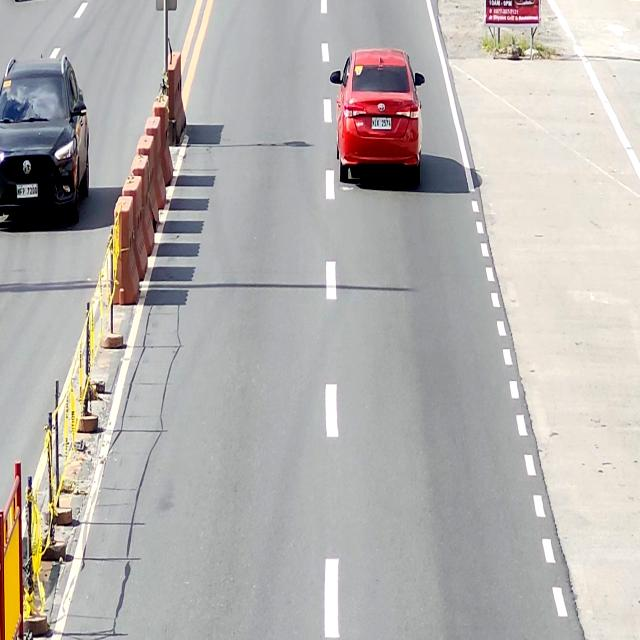Car: (0, 53, 90, 224), (329, 48, 425, 184)
License-Plate: (13, 180, 39, 204), (371, 114, 392, 130)
